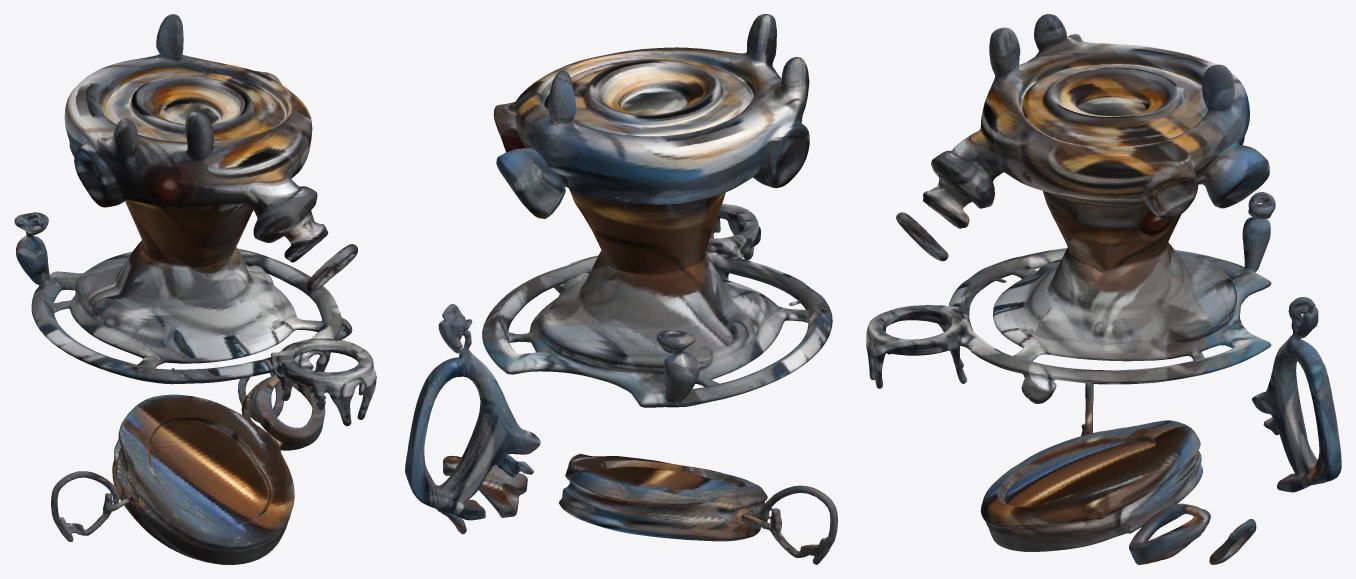
The model's file is wormhole_anchor.glb.
3 renders of one model, left to right at view 1: azimuth 30°, elevation 25°; view 2: azimuth 150°, elevation 25°; view 3: azimuth 270°, elevation 25°, orthographic. The views are drawn at different scales.
Size of the model in its own units: 1.38 by 1.99 by 1.76.
1 material, 1 textured.
